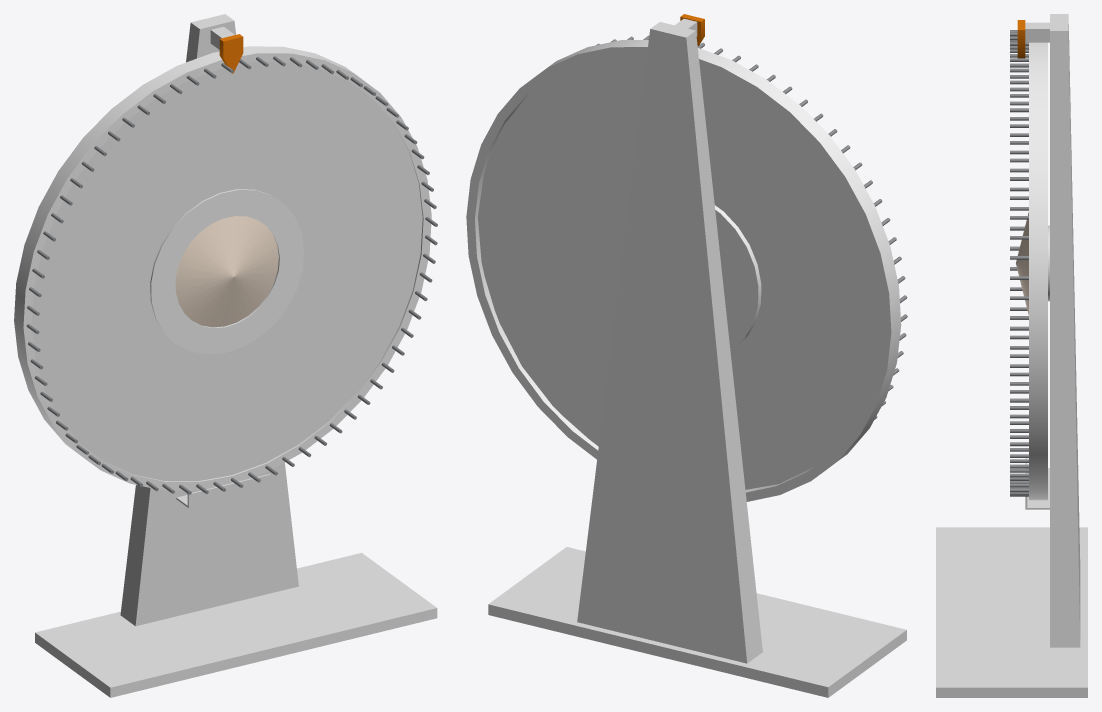
Rendered from crazytime-wheel.fbx.
3 views of the same model, side by side, from view 1: azimuth 30°, elevation 25°; view 2: azimuth 150°, elevation 25°; view 3: azimuth 270°, elevation 25° (orthographic). The views are drawn at different scales.
Parts seen in each view (by area): view 1: Disk_Label, Foot, Stand, Rim, Inner_Rim, Center_Cone, L_Profile, Arrow; view 2: Disk_Back, Stand, Foot, Rim, Inner_Rim; view 3: Foot, Stand, Rim, Center_Cone, Arrow_Base, Arrow, L_Profile.
Part boxes in pixels (bbox=[...]): Disk_Label: bbox=[31, 62, 422, 481]; Foot: bbox=[35, 552, 437, 697]; Stand: bbox=[120, 14, 298, 626]; Rim: bbox=[14, 46, 431, 490]; Inner_Rim: bbox=[150, 189, 304, 354]; Center_Cone: bbox=[175, 216, 278, 327]; L_Profile: bbox=[176, 474, 270, 507]; Arrow: bbox=[219, 34, 243, 73]; Disk_Back: bbox=[478, 56, 882, 489]; Stand: bbox=[577, 22, 762, 663]; Foot: bbox=[488, 547, 906, 697]; Rim: bbox=[466, 40, 901, 501]; Inner_Rim: bbox=[599, 198, 761, 350]; Foot: bbox=[936, 527, 1087, 697]; Stand: bbox=[1050, 14, 1080, 647]; Rim: bbox=[1029, 42, 1047, 500]; Center_Cone: bbox=[1016, 212, 1028, 315]; Arrow_Base: bbox=[1025, 22, 1049, 42]; Arrow: bbox=[1017, 20, 1025, 58]; L_Profile: bbox=[1025, 458, 1049, 507].
Size of the model in its own units: 125 by 173 by 40.
